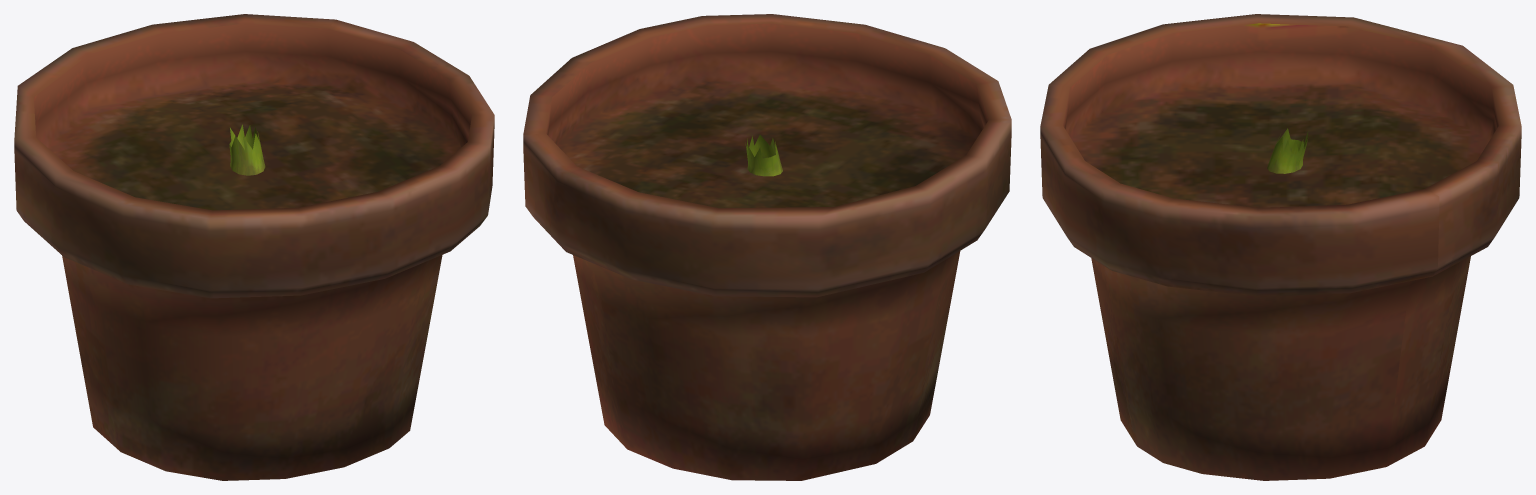
File: firepea_base.obj
The picture shows the model from 3 angles, left to right: view 1: azimuth 30°, elevation 25°; view 2: azimuth 150°, elevation 25°; view 3: azimuth 270°, elevation 25°; orthographic projection.
Parts seen in each view (by area): view 1: firepea_base; view 2: firepea_base; view 3: firepea_base.
Boxes of the visible parts, bbox=[...] form: firepea_base: bbox=[14, 14, 494, 480]; firepea_base: bbox=[523, 14, 1011, 480]; firepea_base: bbox=[1040, 14, 1521, 480].
Bounding box in the file's own units: 0.8862 × 0.6047 × 0.8862.
